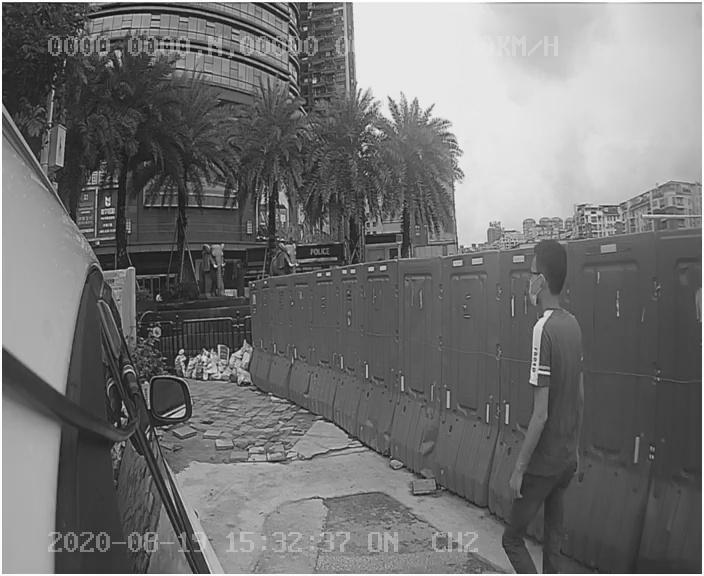person: (483, 238, 602, 545)
